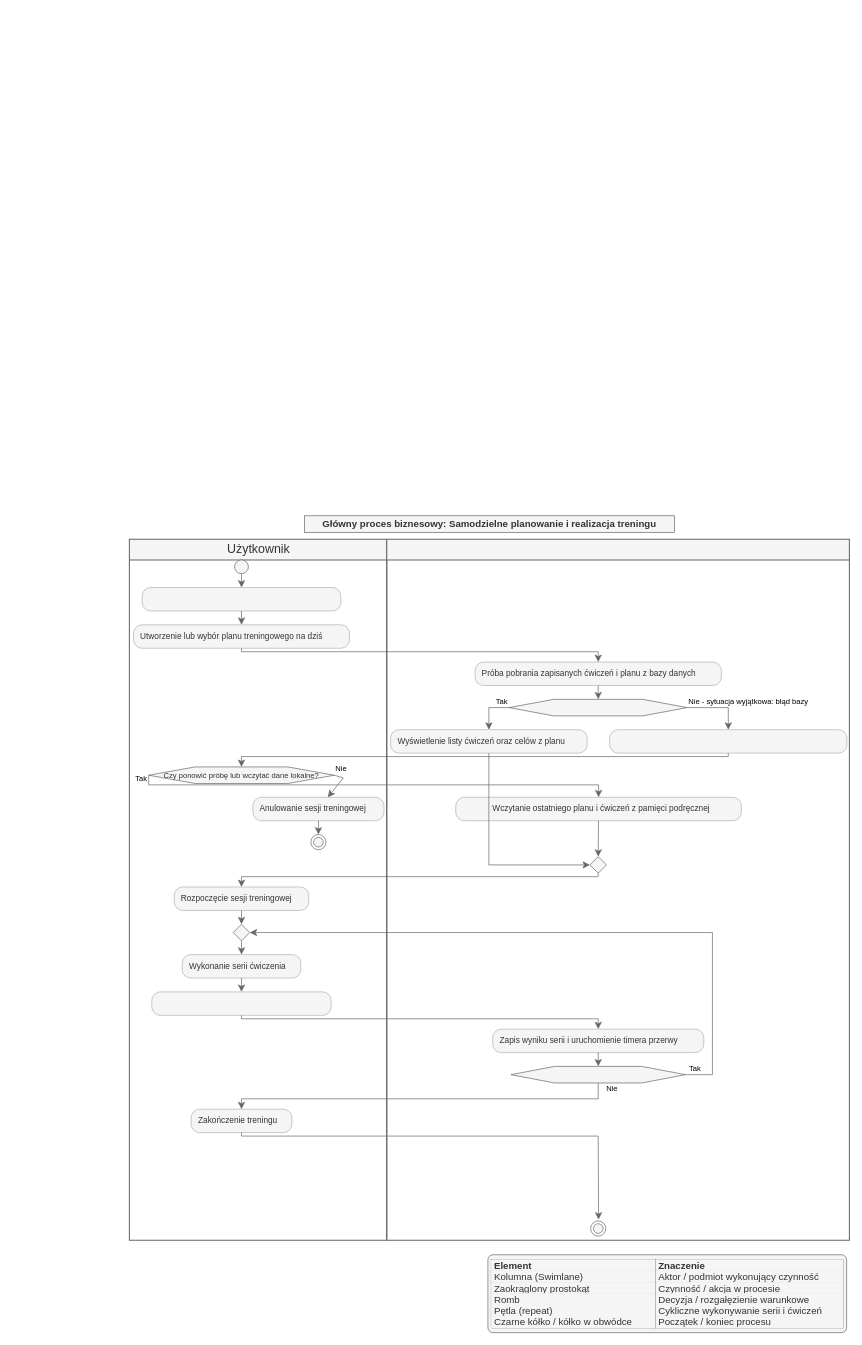
Image size: 862x1345. Some labels were removed from this diagram. The shapes that lost their labels are listed below. From the top down, each one's box as (x1, y1, x2, y2) in pixels, then its label:
(142, 587, 341, 611): Dodanie własnych ćwiczeń do prywatnej bazy
(509, 699, 687, 716): Czy udało się załadować dane treningowe?
(609, 729, 847, 753): Wyświetlenie komunikatu o błędzie ładowania ćwiczeń
(386, 538, 850, 1240): System
(151, 991, 331, 1015): Wprowadzenie ciężaru i liczby powtórzeń
(510, 1066, 686, 1083): Czy pozostały kolejne serie lub ćwiczenia?
